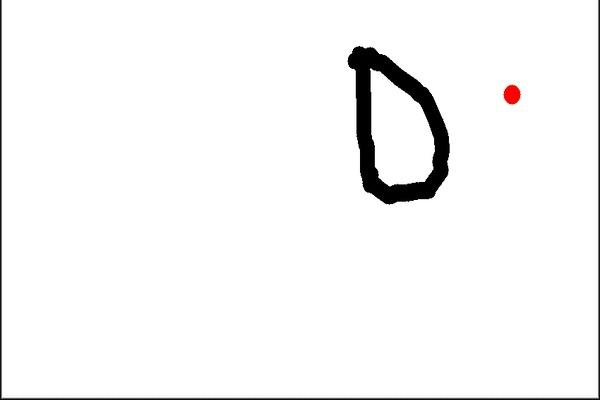D: (343, 42, 455, 205)
